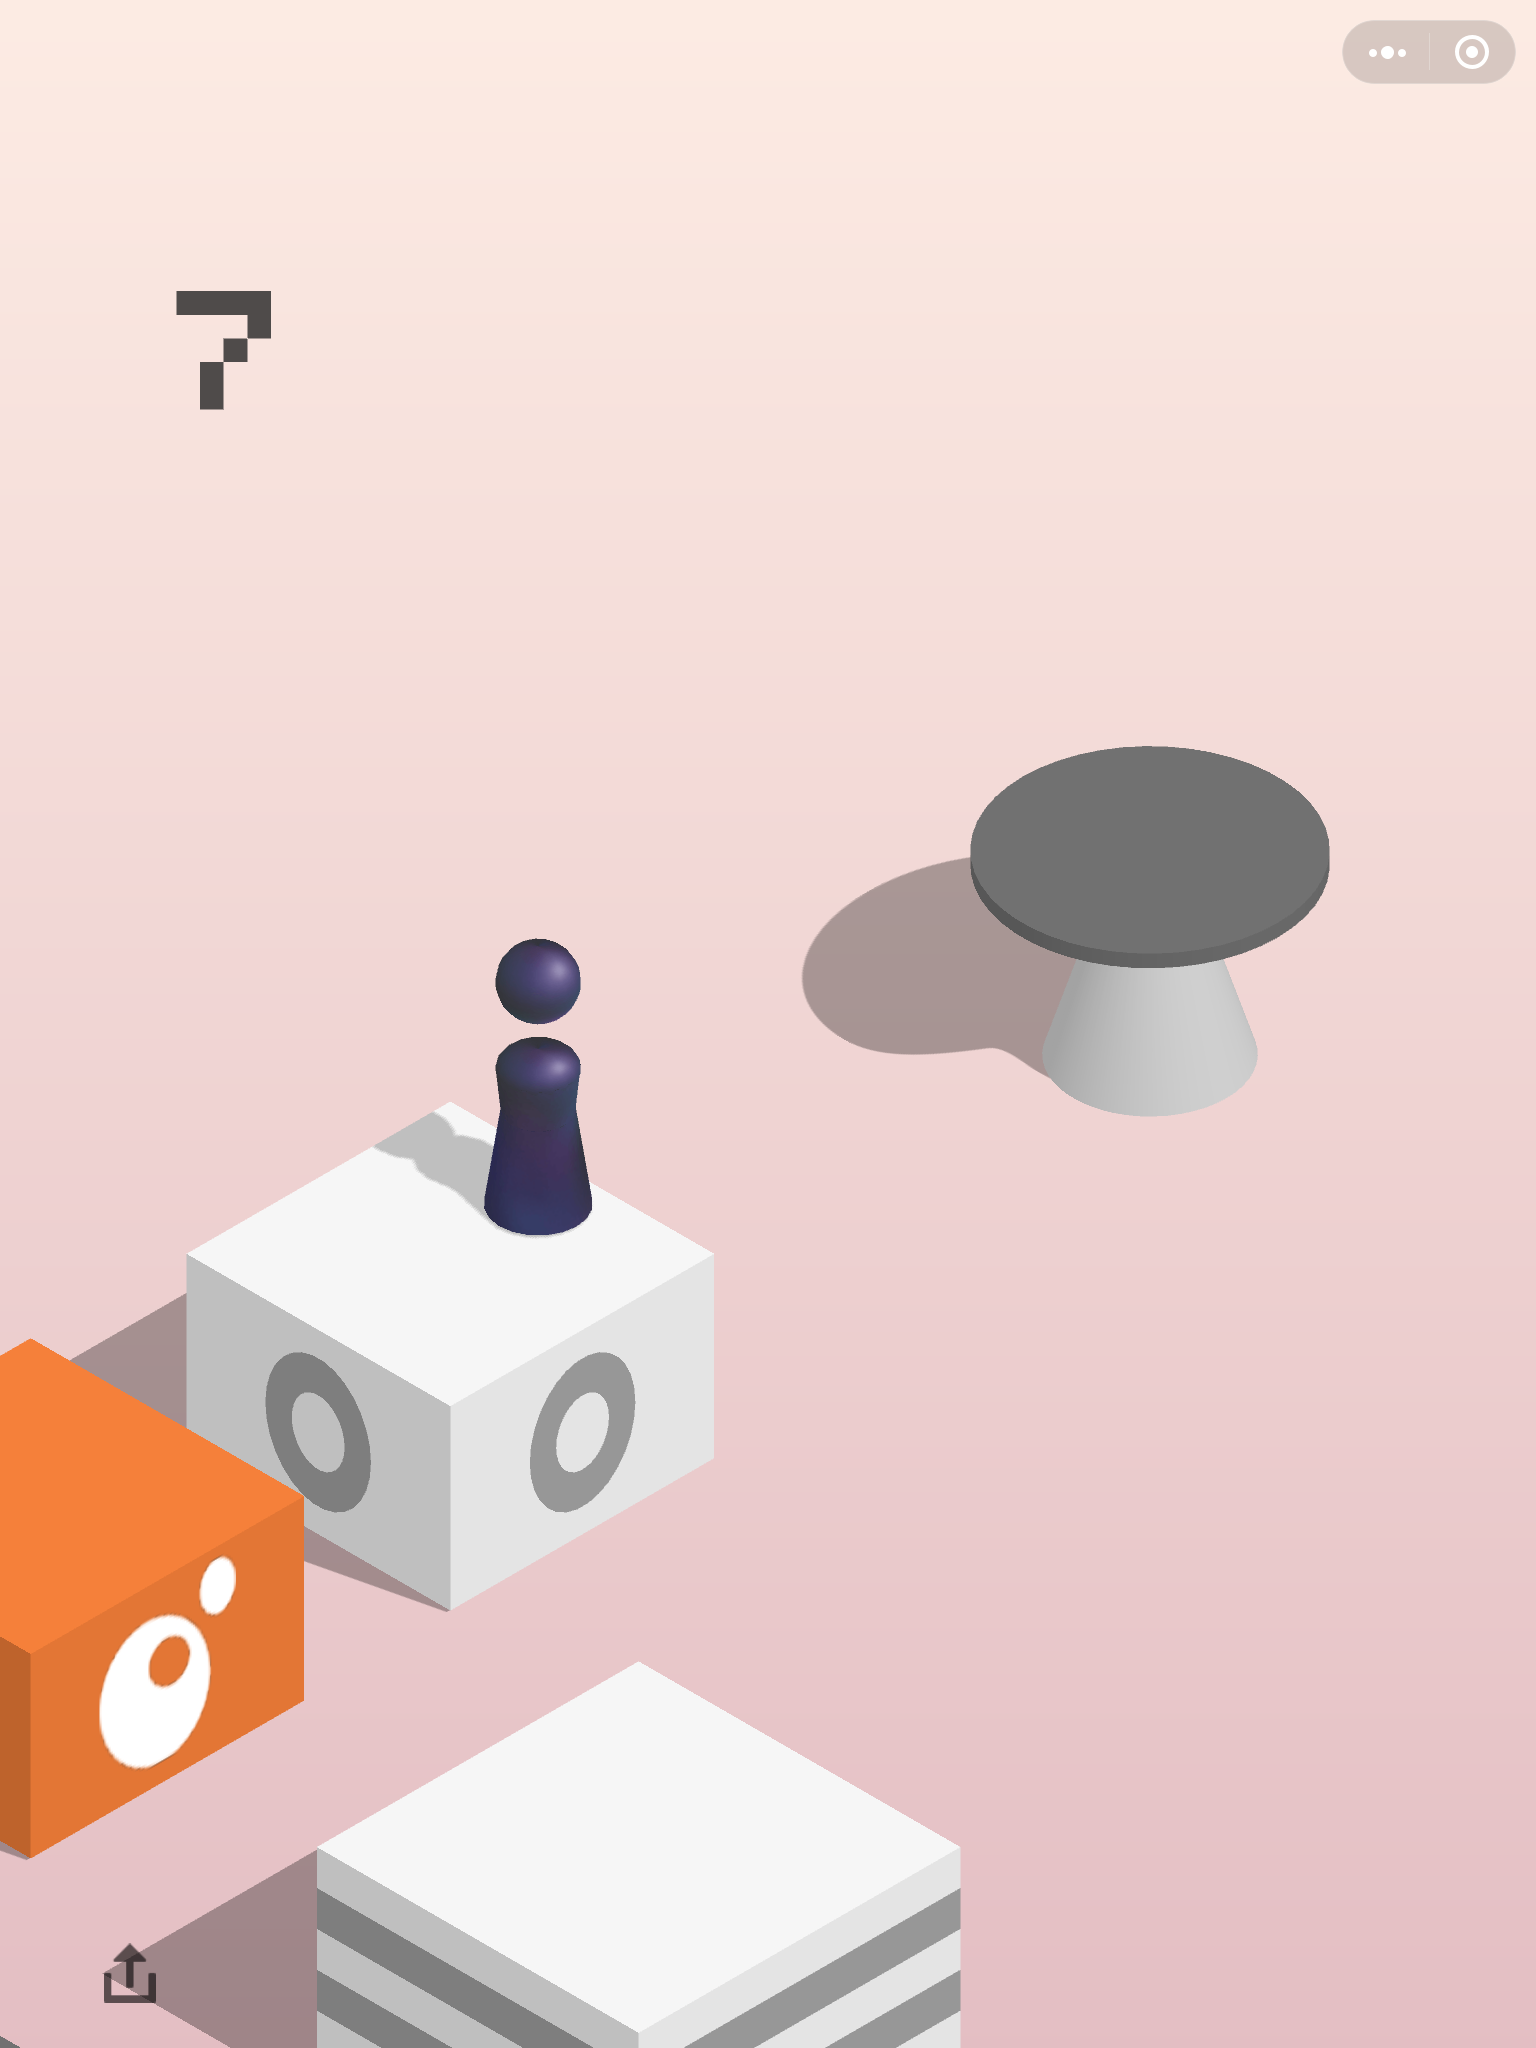c: (963, 739, 1336, 1126)
f: (179, 1097, 720, 1611), (308, 1655, 970, 2048), (2, 1334, 308, 1866)
r: (481, 934, 599, 1242)
